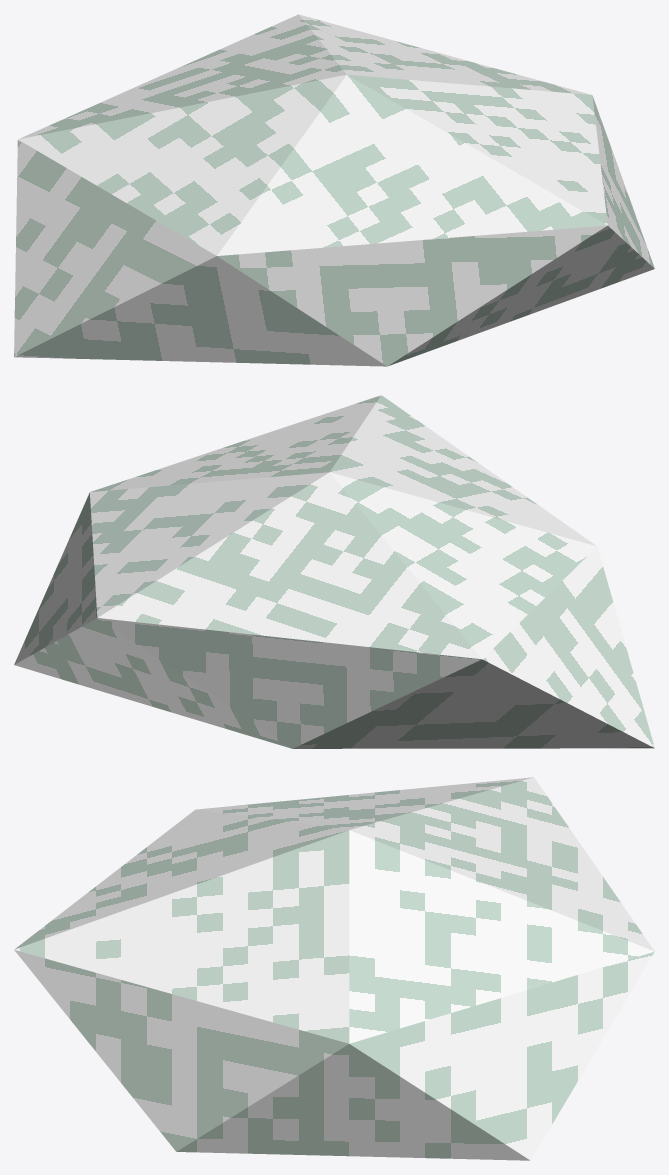
The model's file is r05_banco_neve.glb.
3 views of the same model, one above another, from view 1: azimuth 30°, elevation 25°; view 2: azimuth 150°, elevation 25°; view 3: azimuth 270°, elevation 25° (orthographic). The views are drawn at different scales.
Parts seen in each view (by area): view 1: r05_banco_neve; view 2: r05_banco_neve; view 3: r05_banco_neve.
Part boxes in pixels (left/top/right/bottom): r05_banco_neve: left=14, top=14, right=654, bottom=366; r05_banco_neve: left=14, top=395, right=654, bottom=748; r05_banco_neve: left=14, top=777, right=654, bottom=1160.
Bounding box in the file's own units: 1.76 × 0.7773 × 1.58.
Materials: 1 (1 with a texture image).
